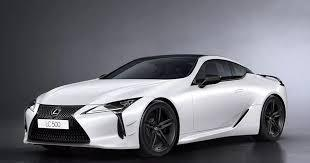lexus: (47, 106, 62, 116)
